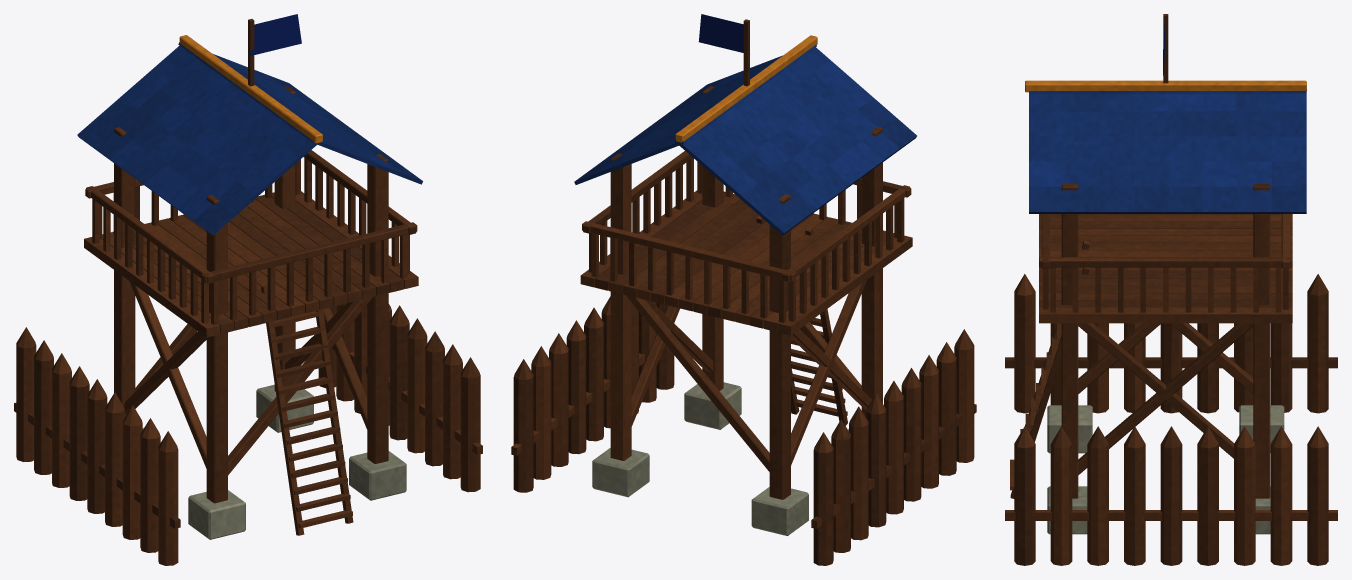
The model's file is KOD_Outpost.fbx.
The picture shows the model from 3 angles, left to right: view 1: azimuth 30°, elevation 25°; view 2: azimuth 150°, elevation 25°; view 3: azimuth 270°, elevation 25°; orthographic projection. The views are drawn at different scales.
Visible parts, largest first — view 1: KOD_Outpost_LOD0, CaptureFlag_LOD0; view 2: KOD_Outpost_LOD0, CaptureFlag_LOD0; view 3: KOD_Outpost_LOD0.
Boxes of the visible parts, box(x1,y1,x2,y2) form: KOD_Outpost_LOD0: box(14, 19, 482, 565); CaptureFlag_LOD0: box(250, 14, 301, 55); KOD_Outpost_LOD0: box(511, 19, 976, 565); CaptureFlag_LOD0: box(698, 14, 749, 54); KOD_Outpost_LOD0: box(1005, 14, 1337, 565).
Size of what is drawn, in the model's own units: 6.78 by 9.22 by 5.9.
5 materials, 5 textured.
